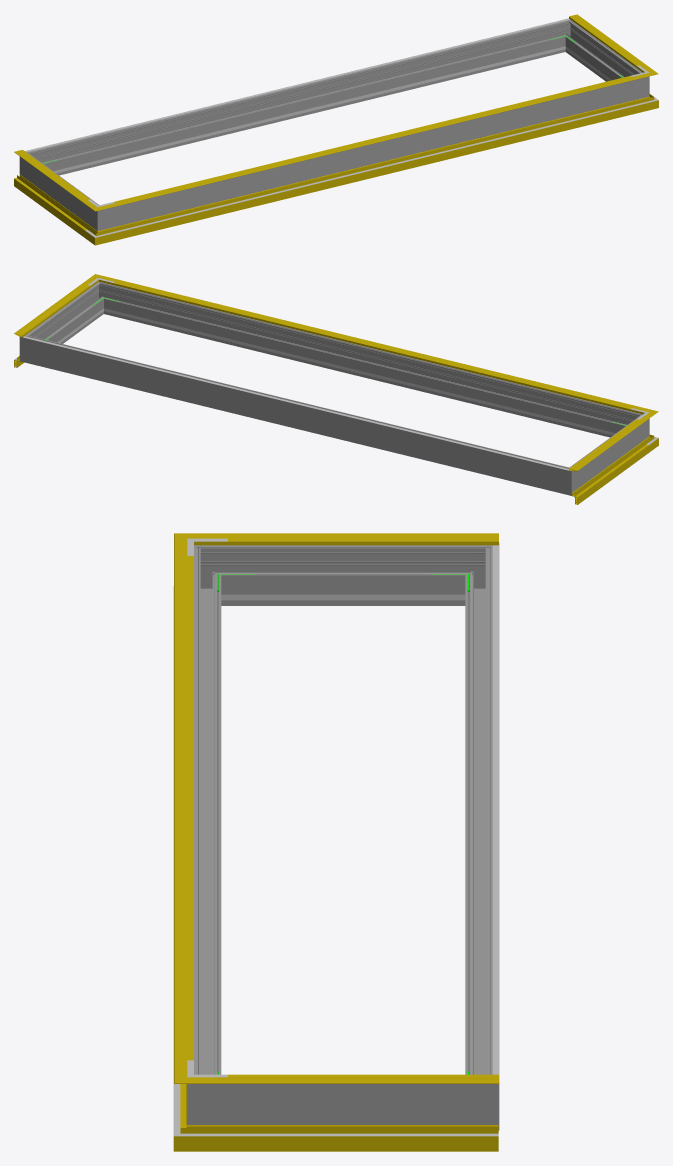
3 renders of one model, top to bottom at view 1: azimuth 30°, elevation 25°; view 2: azimuth 150°, elevation 25°; view 3: azimuth 270°, elevation 25°, orthographic. The views are drawn at different scales.
Parts seen in each view (by area): view 1: 3DGeom-276, 3DGeom-298, 3DGeom-90, 3DGeom-141, 3DGeom-297, 3DGeom-244, 3DGeom-220, 3DGeom-100, 3DGeom-268, 3DGeom-158, 3DGeom-85, 3DGeom-145 (+5 smaller); view 2: 3DGeom-298, 3DGeom-276, 3DGeom-141, 3DGeom-297, 3DGeom-239, 3DGeom-220, 3DGeom-158, 3DGeom-268, 3DGeom-85, 3DGeom-278, 3DGeom-145, 3DGeom-284 (+2 smaller); view 3: 3DGeom-276, 3DGeom-298, 3DGeom-268, 3DGeom-297, 3DGeom-141, 3DGeom-97, 3DGeom-220, 3DGeom-158, 3DGeom-147, 3DGeom-145, 3DGeom-284, 3DGeom-290 (+7 smaller).
Part boxes in pixels (left/top/right/bottom): 3DGeom-276: left=39, top=23, right=562, bottom=175; 3DGeom-298: left=115, top=80, right=631, bottom=226; 3DGeom-90: left=109, top=99, right=641, bottom=240; 3DGeom-141: left=110, top=75, right=640, bottom=207; 3DGeom-297: left=567, top=26, right=636, bottom=81; 3DGeom-244: left=59, top=50, right=548, bottom=172; 3DGeom-220: left=25, top=18, right=569, bottom=152; 3DGeom-100: left=111, top=103, right=640, bottom=233; 3DGeom-268: left=29, top=158, right=92, bottom=223; 3DGeom-158: left=114, top=76, right=631, bottom=202; 3DGeom-85: left=14, top=174, right=90, bottom=237; 3DGeom-145: left=569, top=14, right=647, bottom=69; 3DGeom-298: left=106, top=285, right=630, bottom=437; 3DGeom-276: left=37, top=338, right=556, bottom=491; 3DGeom-141: left=108, top=278, right=640, bottom=412; 3DGeom-297: left=32, top=288, right=102, bottom=343; 3DGeom-239: left=121, top=312, right=609, bottom=434; 3DGeom-220: left=23, top=336, right=568, bottom=470; 3DGeom-158: left=114, top=282, right=631, bottom=409; 3DGeom-268: left=576, top=420, right=639, bottom=485; 3DGeom-85: left=572, top=441, right=648, bottom=504; 3DGeom-278: left=554, top=462, right=581, bottom=495; 3DGeom-145: left=14, top=281, right=93, bottom=337; 3DGeom-284: left=19, top=330, right=40, bottom=365; 3DGeom-276: left=465, top=559, right=499, bottom=1074; 3DGeom-298: left=194, top=559, right=221, bottom=1074; 3DGeom-268: left=228, top=545, right=458, bottom=605; 3DGeom-297: left=228, top=1084, right=458, bottom=1124; 3DGeom-141: left=174, top=550, right=187, bottom=1065; 3DGeom-97: left=214, top=1125, right=498, bottom=1151; 3DGeom-220: left=492, top=545, right=498, bottom=1074; 3DGeom-158: left=187, top=556, right=193, bottom=1060; 3DGeom-147: left=215, top=533, right=498, bottom=545; 3DGeom-145: left=215, top=1077, right=498, bottom=1083; 3DGeom-284: left=458, top=1064, right=499, bottom=1130; 3DGeom-290: left=187, top=1064, right=227, bottom=1124.
Size of the model in its own units: 4.88 by 0.2829 by 1.22.
